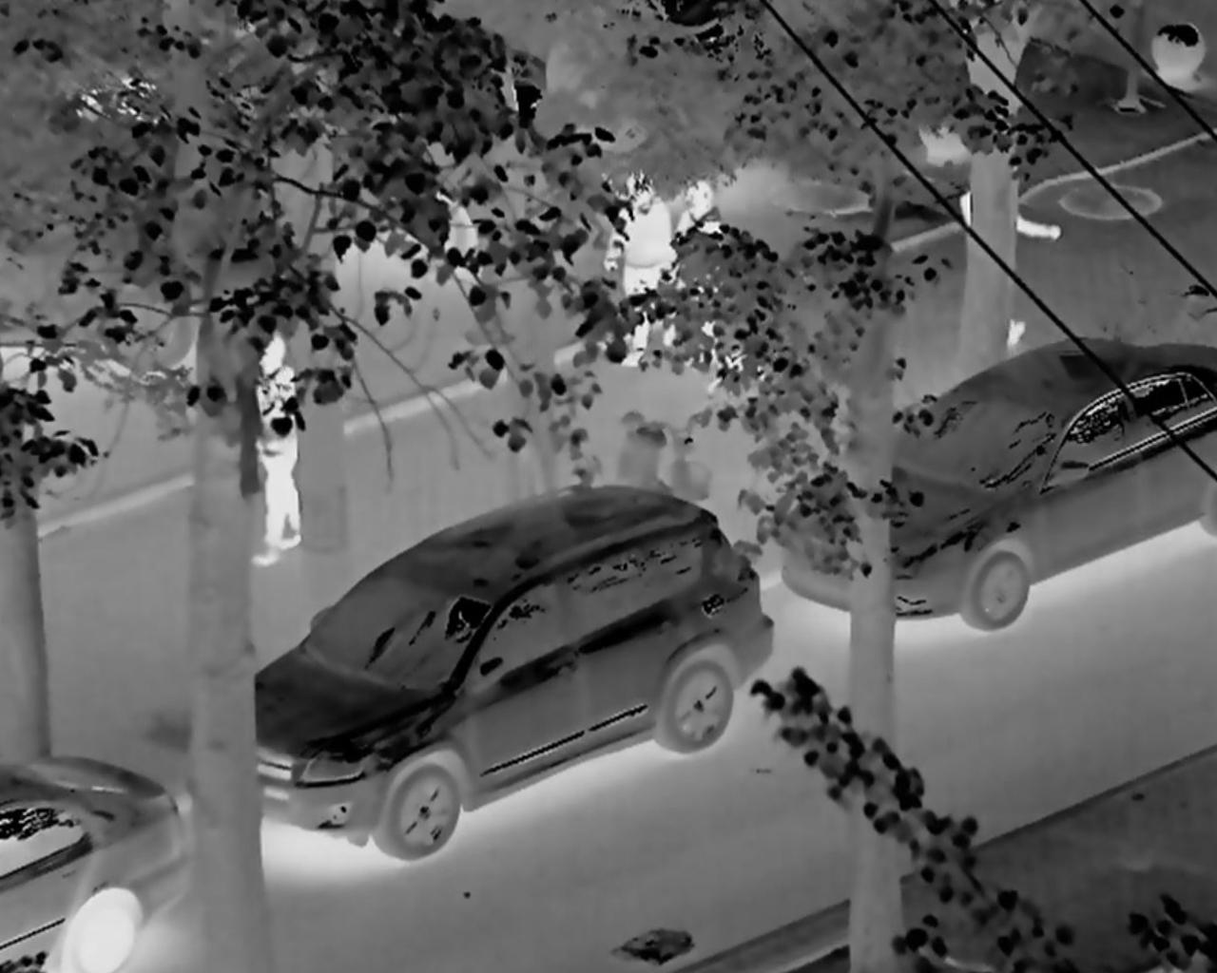person: (237, 285, 321, 574), (948, 166, 1060, 364), (589, 129, 681, 360), (670, 159, 758, 391)
